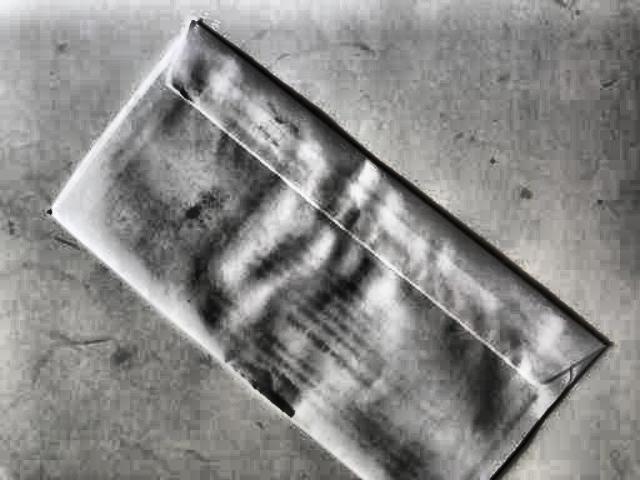Paper: (33, 13, 606, 480)
